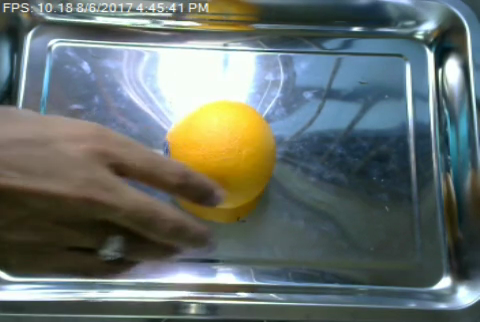Orange: (161, 103, 274, 210)
